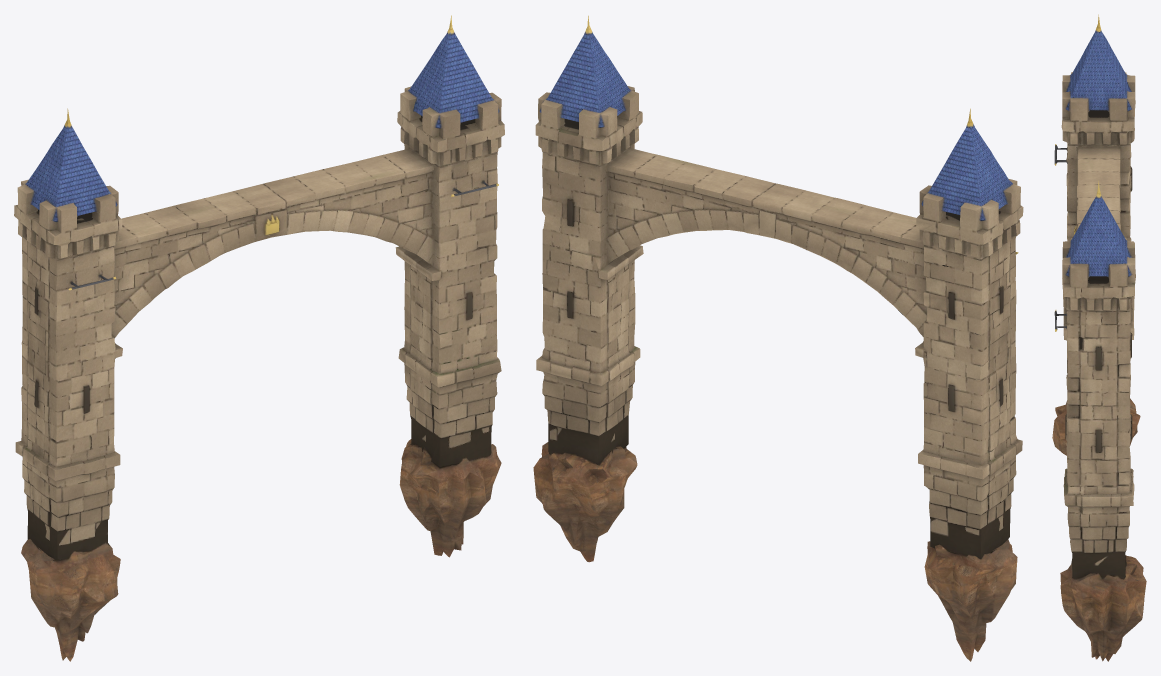
Rendered from gates.glb.
3 views of the same model, side by side, from view 1: azimuth 30°, elevation 25°; view 2: azimuth 150°, elevation 25°; view 3: azimuth 270°, elevation 25° (orthographic). The views are drawn at different scales.
Parts seen in each view (by area): view 1: gate_arch; view 2: gate_arch; view 3: gate_arch.
Boxes of the visible parts, x1,y1,x2,y2 form: gate_arch: [14, 15, 504, 661]; gate_arch: [533, 15, 1023, 661]; gate_arch: [1052, 14, 1146, 661].
Size of the model in its own units: 11.64 by 13.15 by 2.28.
Materials: 1 (1 with a texture image).
